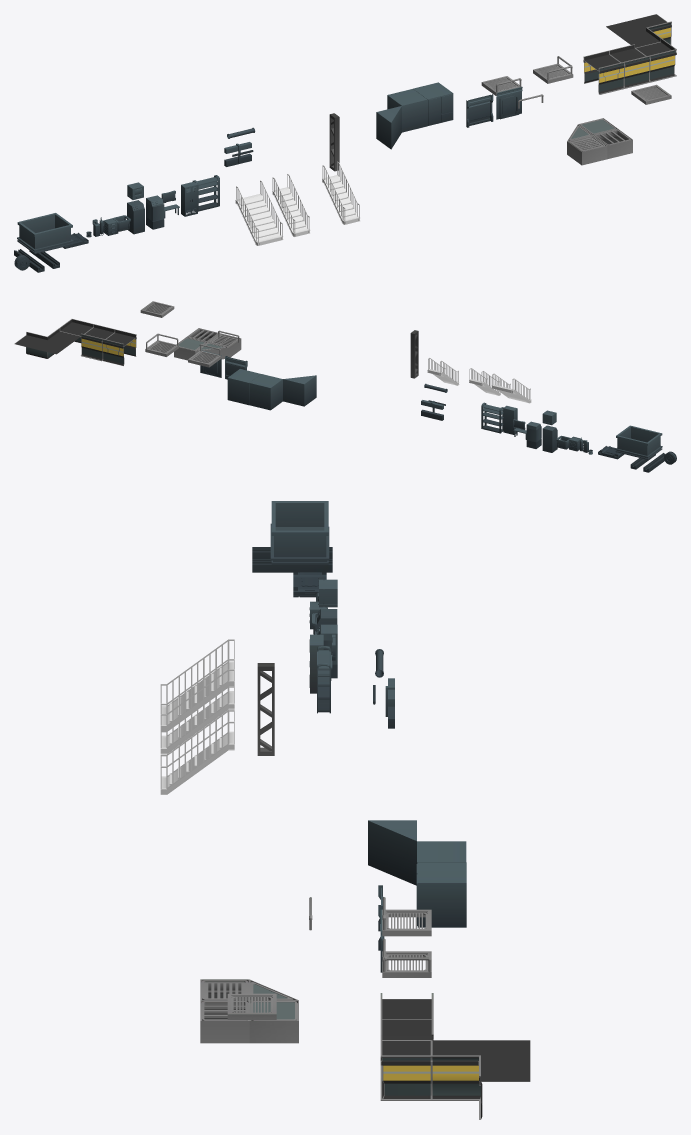
The model's file is AssetsMantenimiento.fbx.
3 renders of one model, top to bottom at view 1: azimuth 30°, elevation 25°; view 2: azimuth 150°, elevation 25°; view 3: azimuth 270°, elevation 25°, orthographic. The views are drawn at different scales.
Visible parts, largest first — view 1: MNT_Prop_12, MNT_Pared_02, MNT_Pared_03, MNT_Pared_05, MNT_Pared_08, MNT_Pared_04, MNT_Pared_01, MNT_Piso_03, MNT_Pared_06, MNT_Pared_07, MNT_Piso_04, MNT_Puerta_01 (+12 smaller); view 2: MNT_Pared_02, MNT_Pared_05, MNT_Prop_12, MNT_Pared_03, MNT_Pared_06, MNT_Pared_04, MNT_Pared_08, MNT_Prop_25, MNT_Piso_07, MNT_Piso_01, MNT_Piso_05, MNT_Pared_01 (+12 smaller); view 3: MNT_Pared_02, MNT_Prop_12, MNT_Pared_04, MNT_Pared_01, MNT_Pared_06, MNT_Piso_04, MNT_Piso_01, MNT_Piso_05, MNT_Piso_07, MNT_Pared_08, MNT_Piso_06, MNT_Columna_01 (+5 smaller).
Boxes of the visible parts, x1,y1,x2,y2 form: MNT_Prop_12: [17, 213, 72, 249]; MNT_Pared_02: [606, 14, 671, 47]; MNT_Pared_03: [583, 50, 624, 94]; MNT_Pared_05: [387, 89, 427, 132]; MNT_Pared_08: [609, 44, 650, 88]; MNT_Pared_04: [413, 82, 453, 125]; MNT_Pared_01: [635, 38, 676, 82]; MNT_Piso_03: [567, 135, 607, 165]; MNT_Pared_06: [376, 106, 401, 149]; MNT_Pared_07: [466, 94, 493, 127]; MNT_Piso_04: [593, 129, 632, 159]; MNT_Puerta_01: [496, 87, 522, 119]; MNT_Pared_02: [14, 328, 80, 358]; MNT_Pared_05: [249, 374, 282, 410]; MNT_Prop_12: [616, 425, 662, 455]; MNT_Pared_03: [102, 329, 136, 365]; MNT_Pared_06: [283, 375, 316, 406]; MNT_Pared_04: [227, 369, 260, 405]; MNT_Pared_08: [80, 324, 114, 361]; MNT_Prop_25: [481, 402, 503, 433]; MNT_Piso_07: [145, 333, 178, 356]; MNT_Piso_01: [174, 337, 207, 360]; MNT_Piso_05: [188, 344, 221, 367]; MNT_Pared_01: [59, 319, 93, 342]; MNT_Pared_02: [431, 1040, 530, 1119]; MNT_Prop_12: [271, 501, 328, 557]; MNT_Pared_04: [416, 862, 466, 927]; MNT_Pared_01: [380, 1034, 431, 1100]; MNT_Pared_06: [368, 820, 416, 885]; MNT_Piso_04: [200, 1000, 249, 1043]; MNT_Piso_01: [249, 1000, 298, 1043]; MNT_Piso_05: [382, 897, 431, 936]; MNT_Piso_07: [382, 938, 431, 977]; MNT_Pared_08: [380, 1013, 433, 1078]; MNT_Piso_06: [227, 993, 276, 1019]; MNT_Columna_01: [257, 663, 274, 755].
Size of the model in its own units: 1104 by 134 by 295.
Materials: 1 (1 with a texture image).
